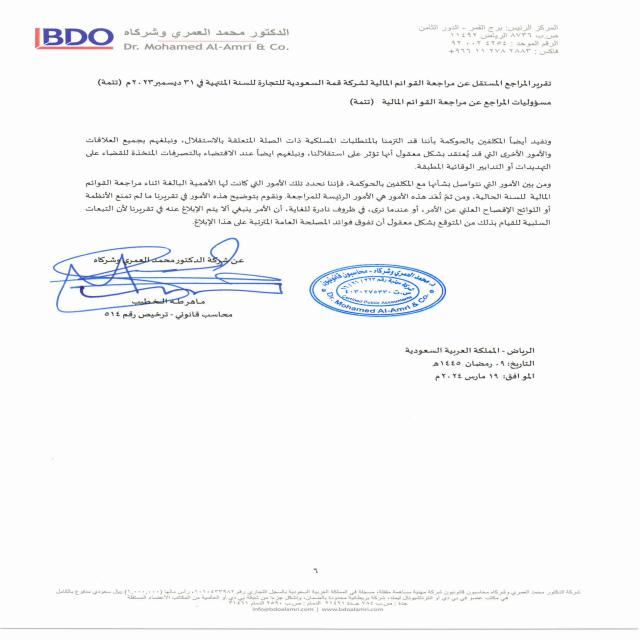auditor_report: (331, 97, 548, 116), (476, 77, 558, 95)
